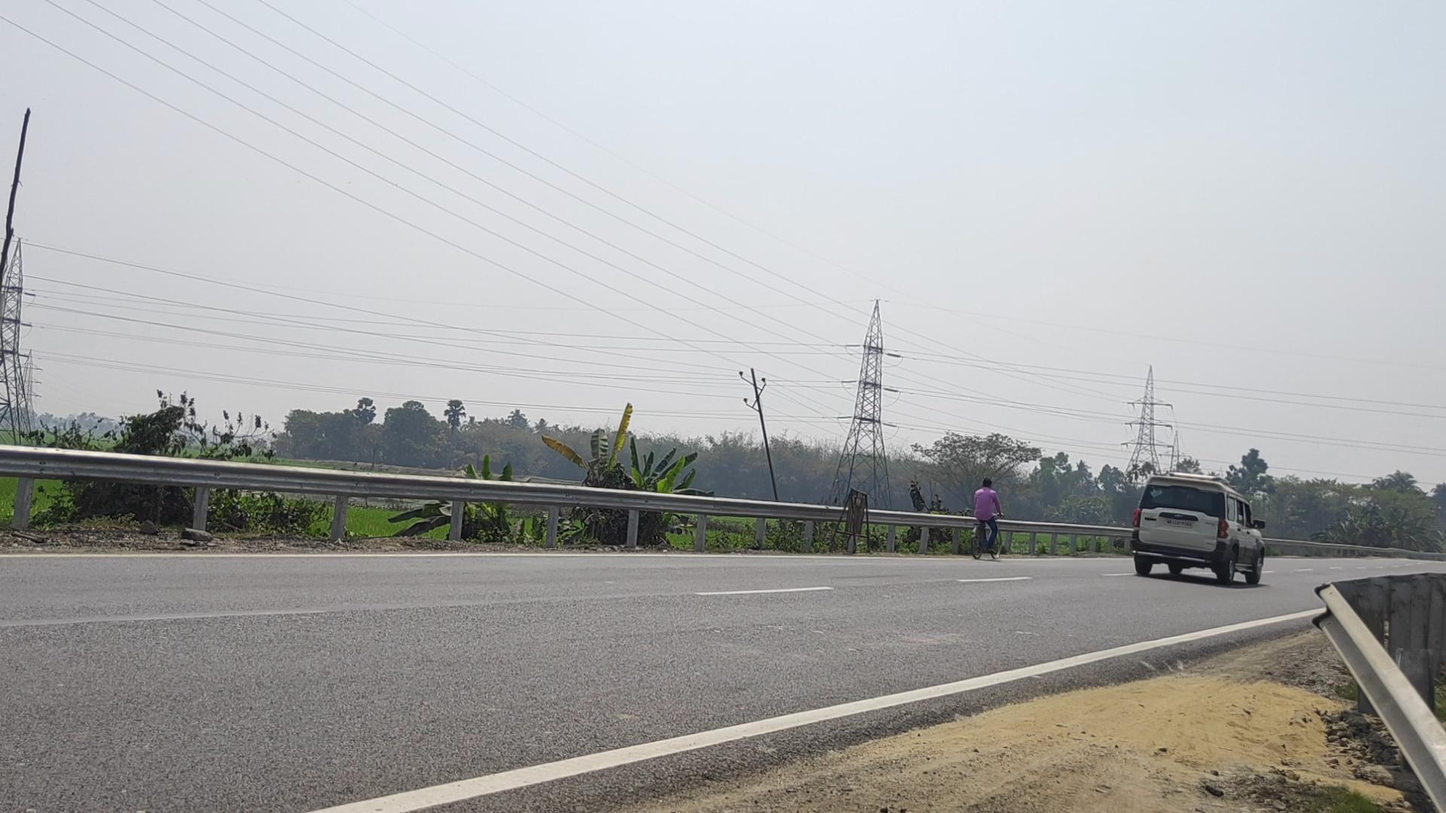bike: (970, 478, 1004, 559)
car: (1131, 472, 1265, 586)
